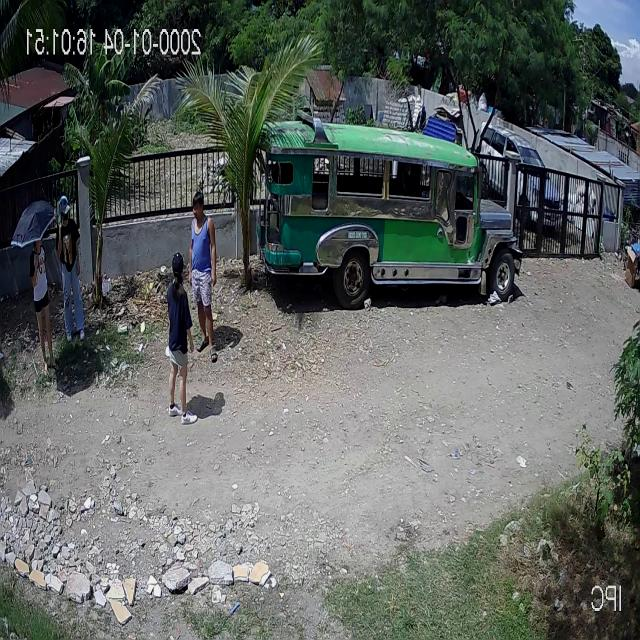standing: (166, 251, 199, 426), (188, 190, 220, 362), (26, 233, 60, 378), (54, 194, 86, 344)
